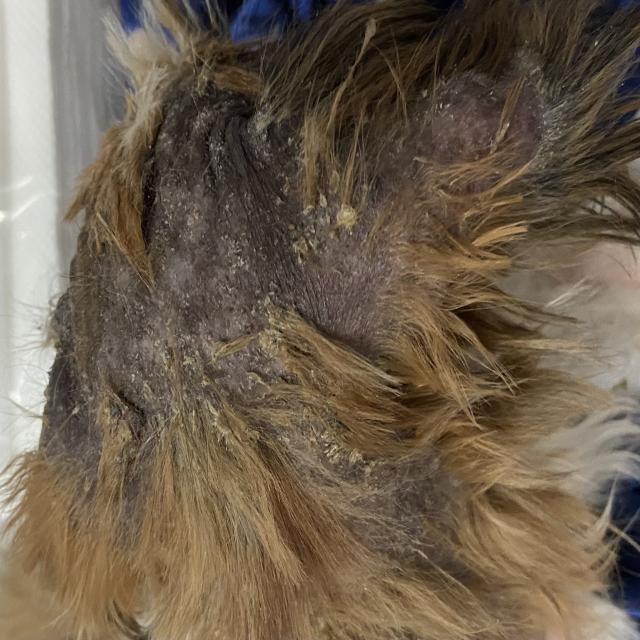demodicosis: (166, 136, 398, 366), (72, 286, 150, 460)
